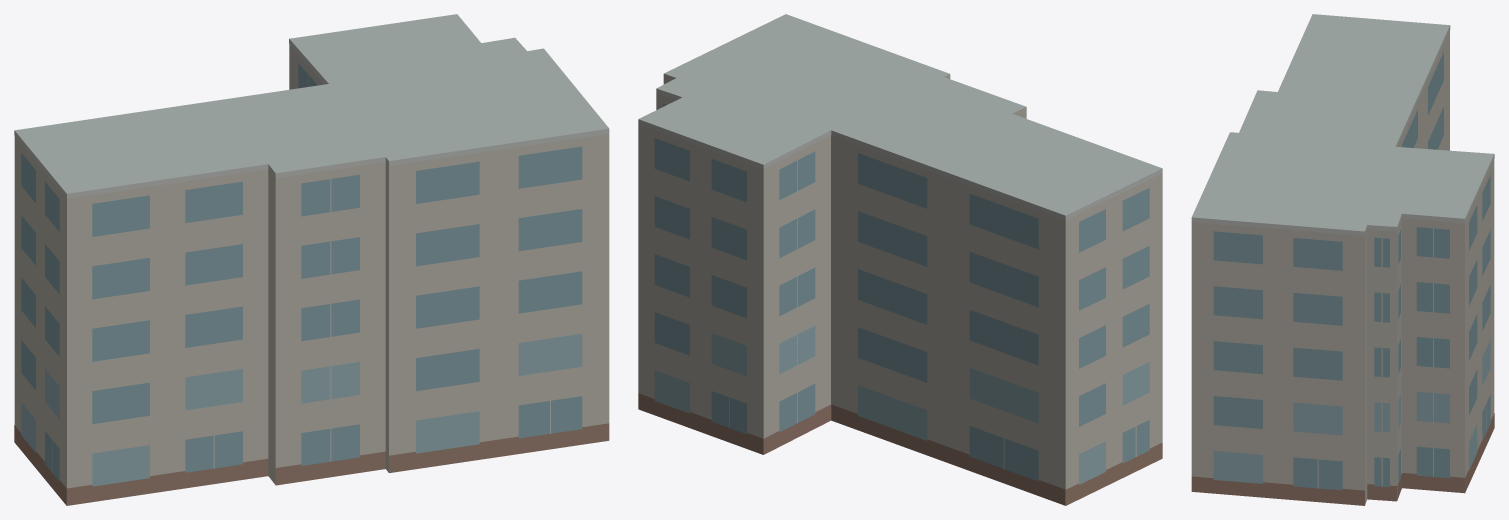
File: survey-upis-32951703.glb
3 renders of one model, left to right at view 1: azimuth 30°, elevation 25°; view 2: azimuth 150°, elevation 25°; view 3: azimuth 270°, elevation 25°, orthographic. The views are drawn at different scales.
Parts seen in each view (by area): view 1: survey-upis-32951703.tmp; view 2: survey-upis-32951703.tmp; view 3: survey-upis-32951703.tmp.
Part boxes in pixels (x1,y1,x2,y2): survey-upis-32951703.tmp: (14,14,609,505); survey-upis-32951703.tmp: (638,14,1162,505); survey-upis-32951703.tmp: (1191,14,1494,505).
Bounding box in the file's own units: 25.42 × 14.95 × 14.96.
